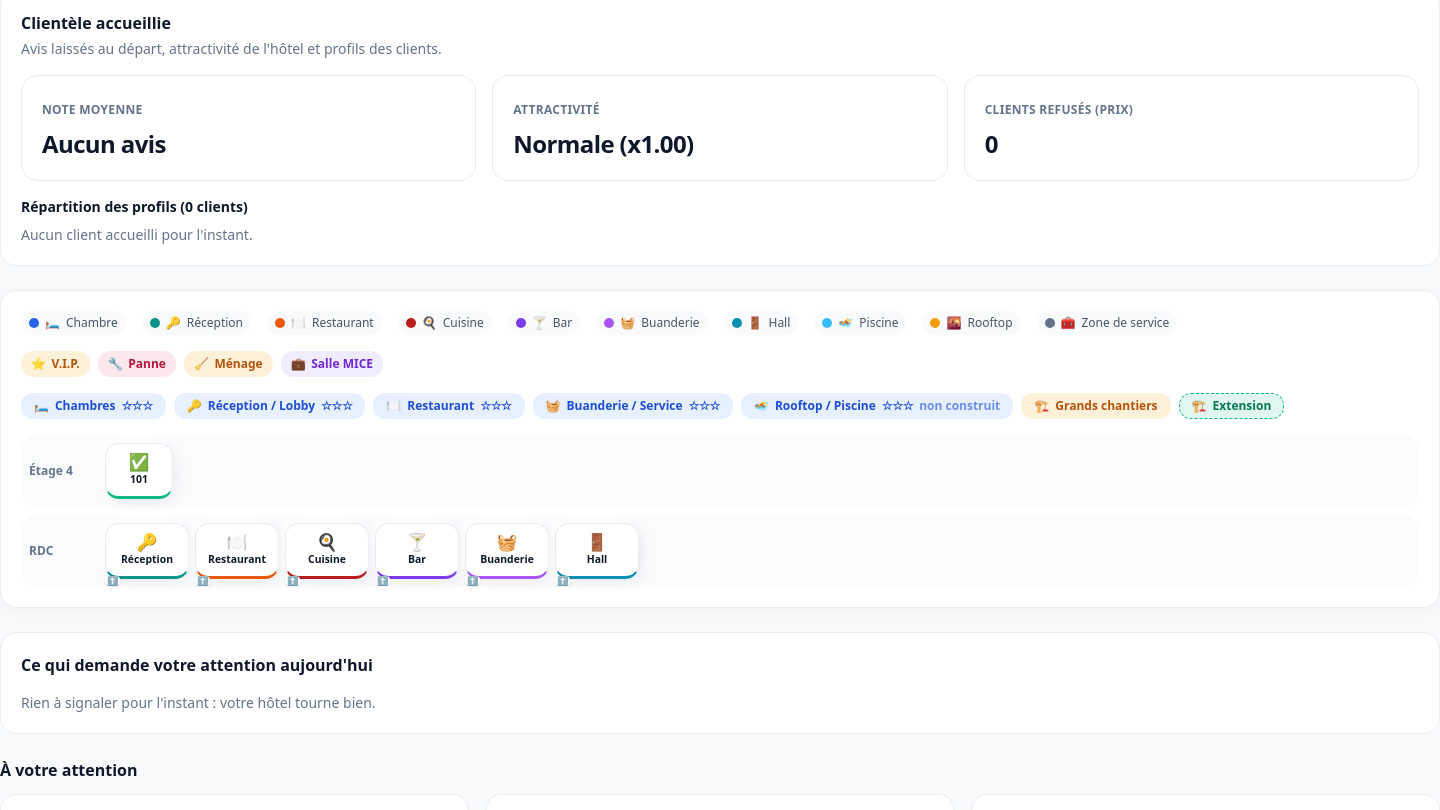
Test case: Dashboard / major projects › opens it from the hotel plan's chip
(page scrolled)
Click the button with test id "schematic-projects".
click(1096, 406)  # box x1=1021 y1=393 x2=1170 y2=419
(page scrolled)
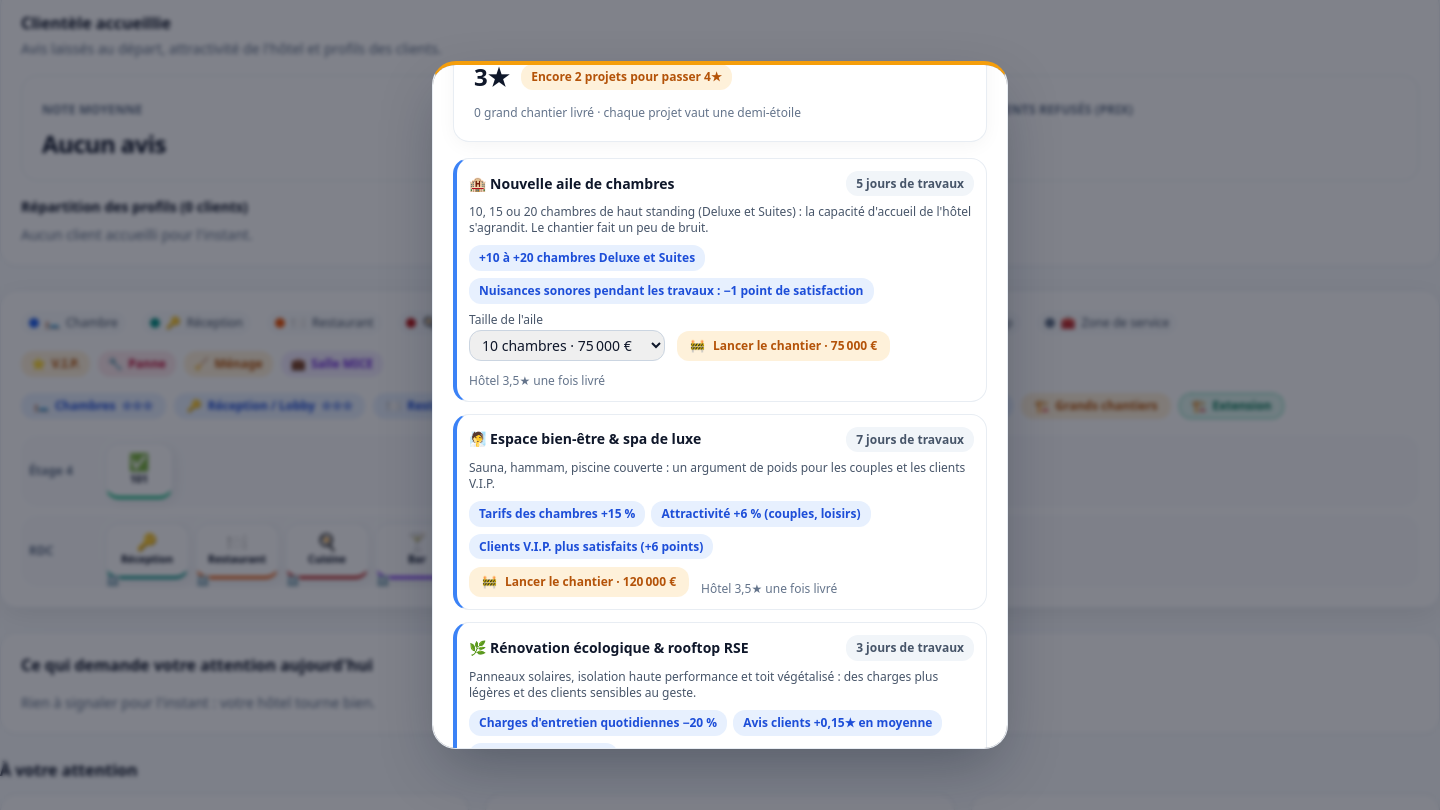
Expected: the element with test id "projects-panel" is shown, x1=453 y1=61 x2=987 y2=749
